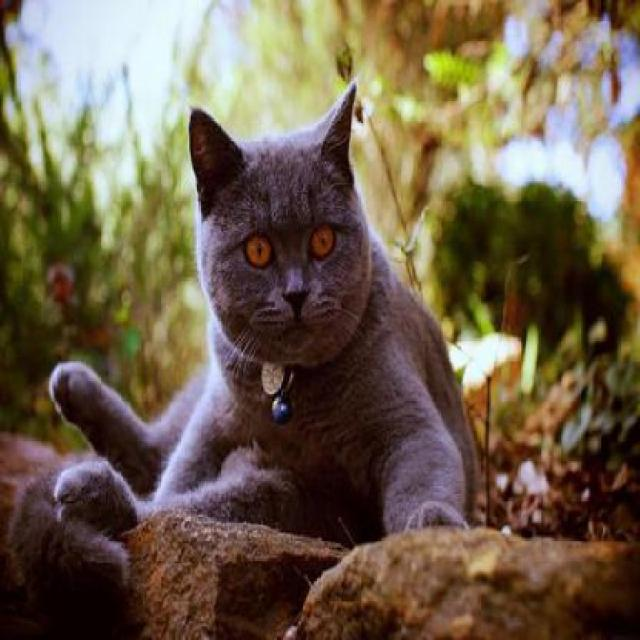cat: (18, 79, 479, 606)
